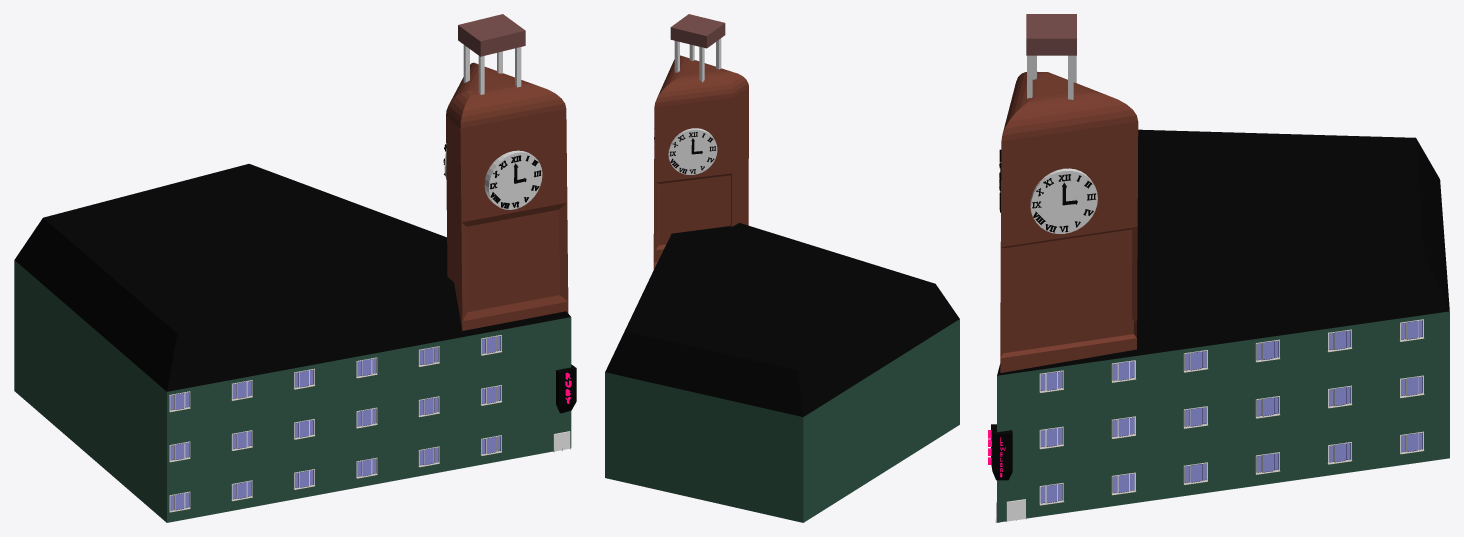
The model's file is RubyJewelersStoreSTM.fbx.
3 renders of one model, left to right at view 1: azimuth 30°, elevation 25°; view 2: azimuth 150°, elevation 25°; view 3: azimuth 270°, elevation 25°, orthographic. The views are drawn at different scales.
Parts seen in each view (by area): view 1: KStreetxGRoadShops, ClockTower, Window, Cylinder, Cube.004, Cube.013; view 2: KStreetxGRoadShops, ClockTower, Cylinder.001, Cube.004; view 3: KStreetxGRoadShops, ClockTower, Window.001, Cylinder.003, Cube.004, Cube.013.
Part boxes in pixels (x1=…): KStreetxGRoadShops: x1=14, y1=164, x2=571, y2=522; ClockTower: x1=446, y1=62, x2=568, y2=330; Window: x1=169, y1=335, x2=501, y2=512; Cylinder: x1=484, y1=150, x2=542, y2=209; Cube.004: x1=458, y1=14, x2=525, y2=56; Cube.013: x1=556, y1=364, x2=576, y2=413; KStreetxGRoadShops: x1=605, y1=223, x2=959, y2=522; ClockTower: x1=653, y1=55, x2=748, y2=269; Cylinder.001: x1=668, y1=128, x2=717, y2=174; Cube.004: x1=670, y1=14, x2=725, y2=48; KStreetxGRoadShops: x1=997, y1=129, x2=1449, y2=522; ClockTower: x1=1000, y1=71, x2=1138, y2=372; Window.001: x1=1039, y1=319, x2=1424, y2=505; Cylinder.003: x1=1030, y1=168, x2=1097, y2=233; Cube.004: x1=1026, y1=14, x2=1076, y2=55; Cube.013: x1=991, y1=424, x2=1012, y2=480.
Size of the model in its own units: 49.06 by 50.85 by 45.56.
